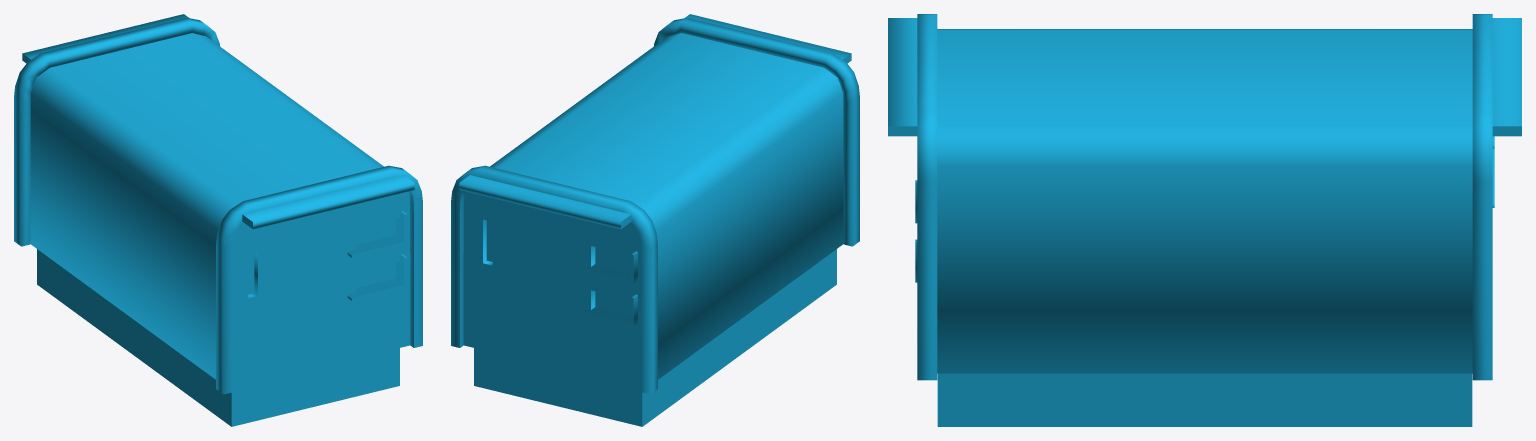
3 renders of one model, left to right at view 1: azimuth 30°, elevation 25°; view 2: azimuth 150°, elevation 25°; view 3: azimuth 270°, elevation 25°, orthographic. The views are drawn at different scales.
Visible parts, largest first — view 1: box2; view 2: box2; view 3: box2.
Boxes of the visible parts, x1,y1,x2,y2 form: box2: (14, 14, 422, 426); box2: (451, 14, 859, 426); box2: (888, 14, 1521, 426).
Size of the model in its own units: 124 by 132 by 248.
